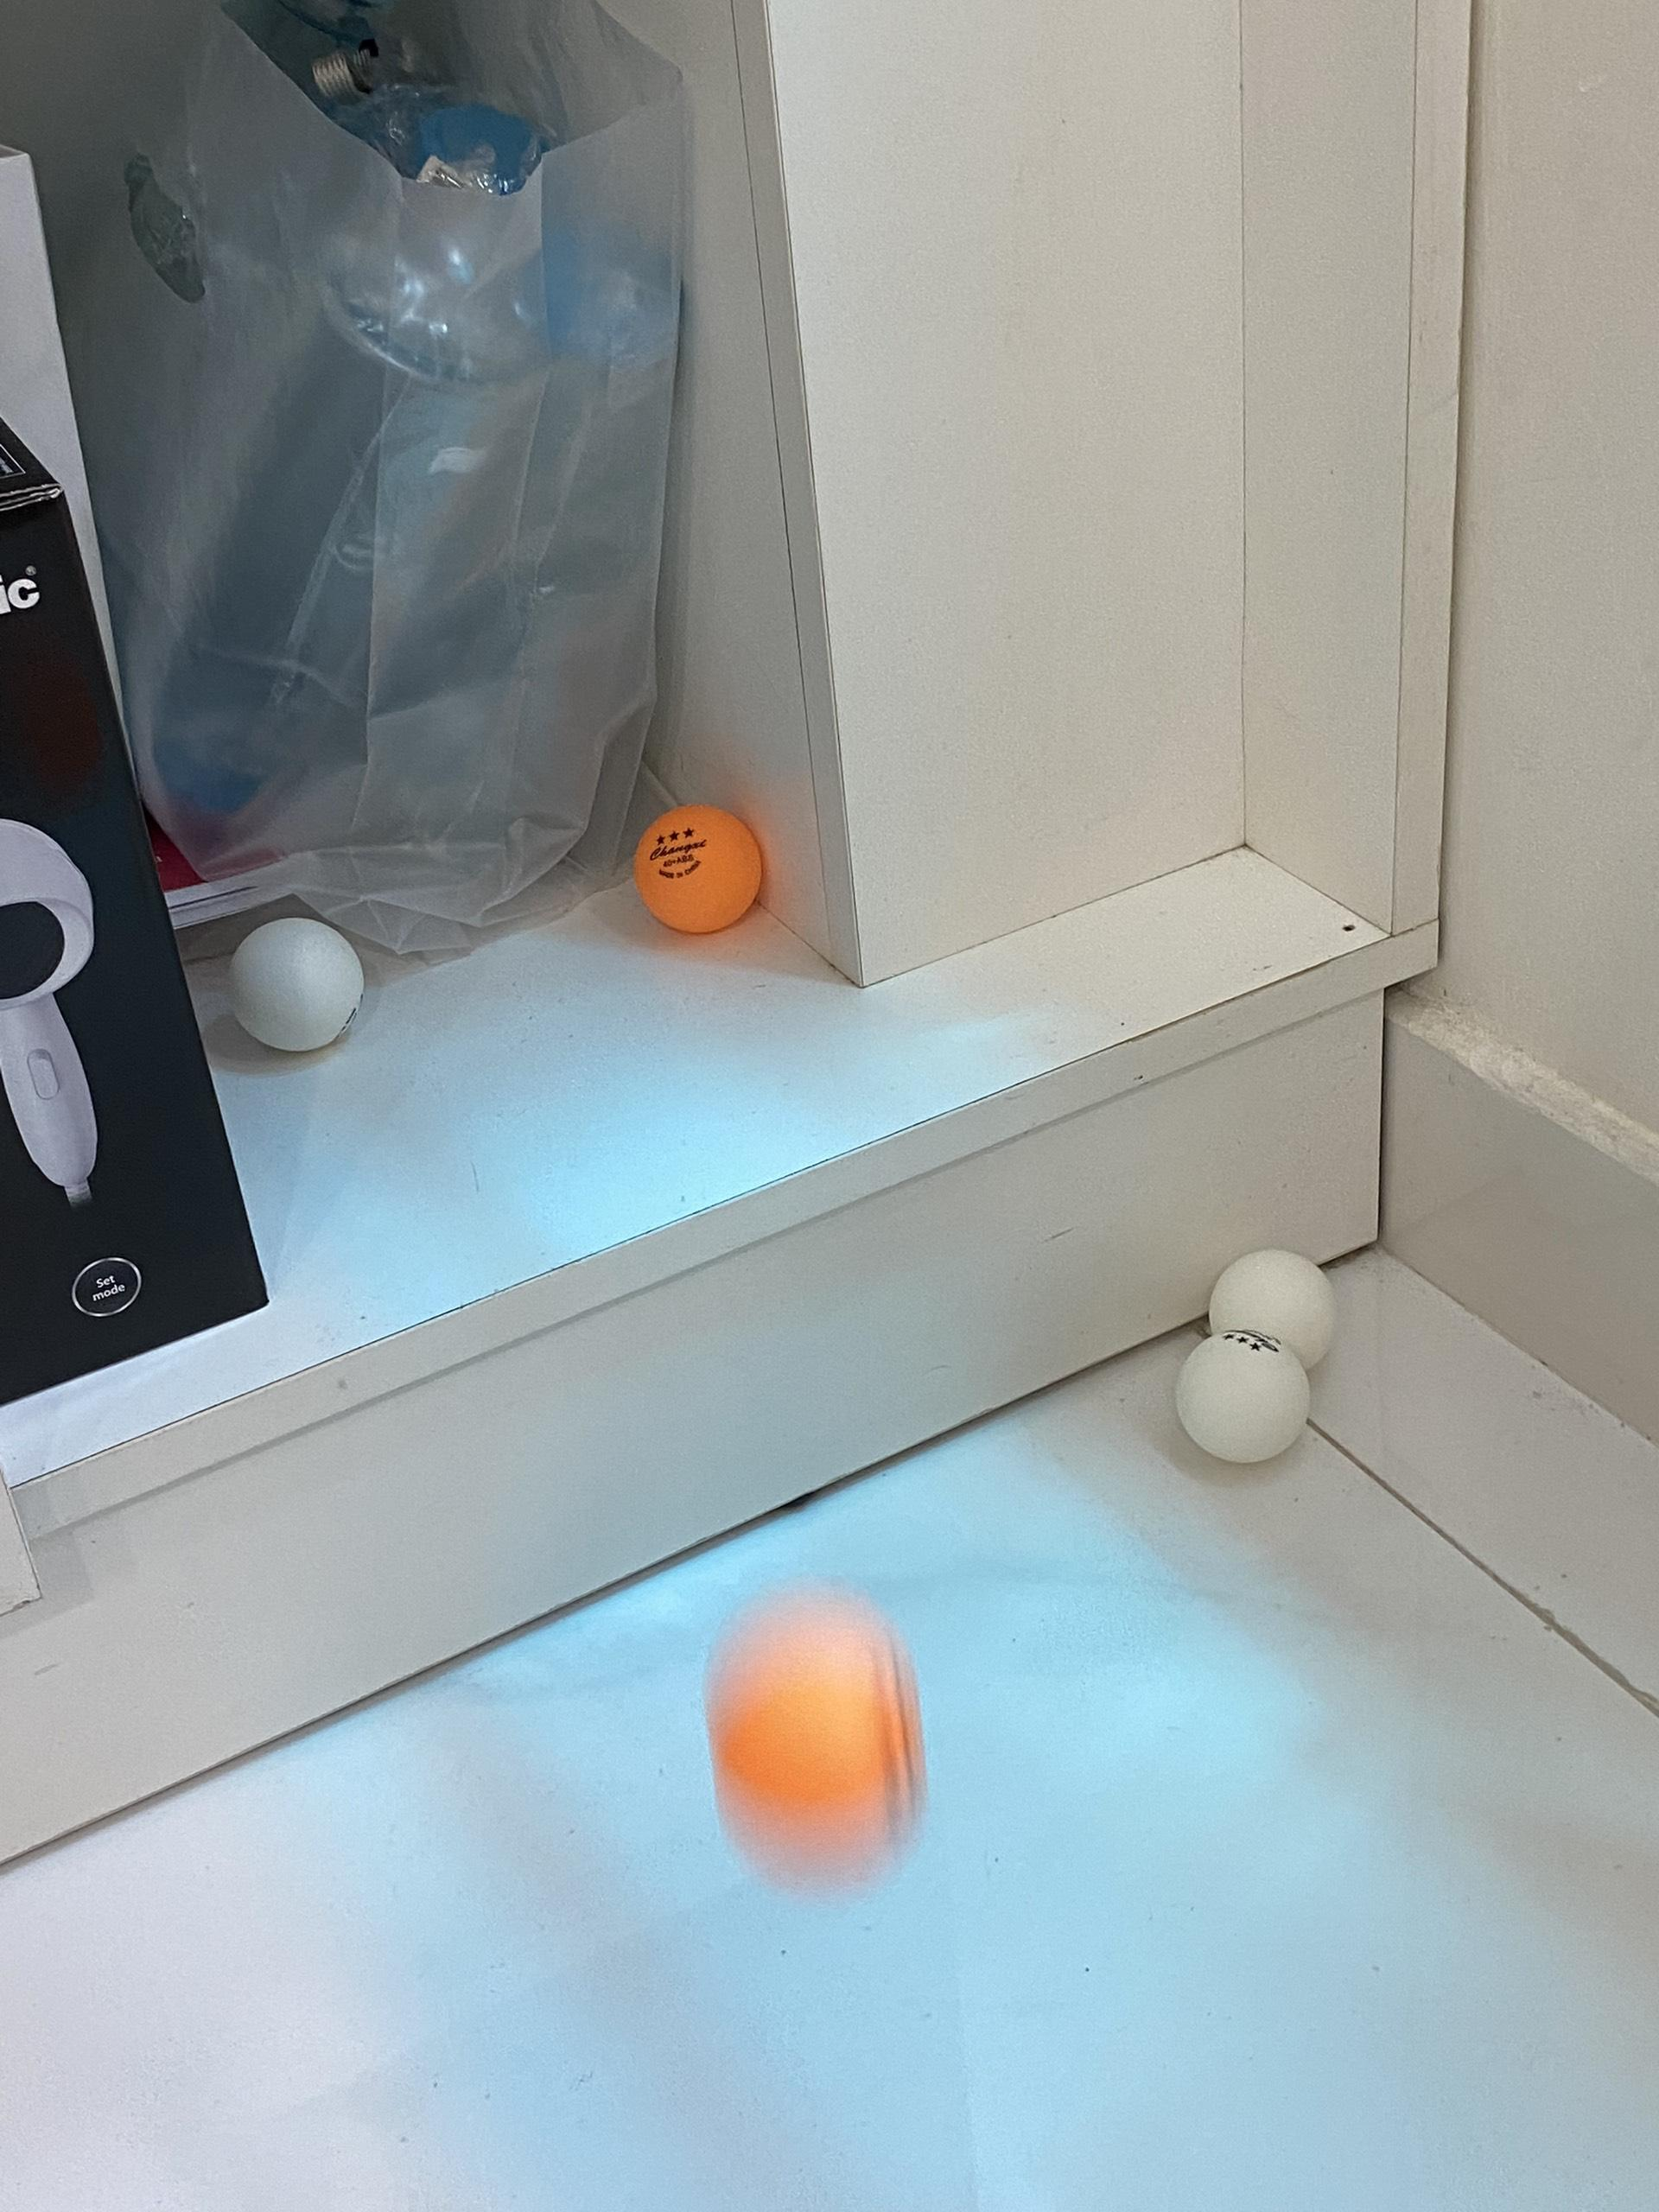oball: (718, 1595, 922, 1878), (1182, 1325, 1314, 1467), (228, 920, 361, 1052), (1209, 1251, 1337, 1385), (636, 798, 760, 935)
